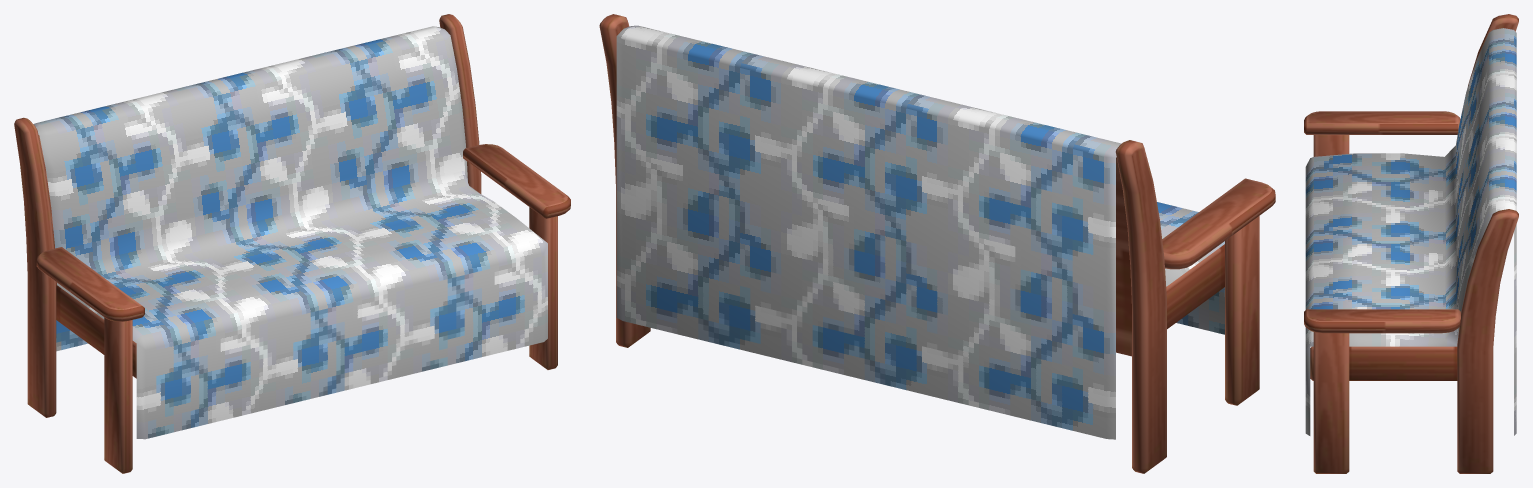
File: rmk_scd_chairL.dae
3 renders of one model, left to right at view 1: azimuth 30°, elevation 25°; view 2: azimuth 150°, elevation 25°; view 3: azimuth 270°, elevation 25°, orthographic. The views are drawn at different scales.
Visible parts, largest first — view 1: vsn_mesh_1_, vsn_mesh_0_; view 2: vsn_mesh_1_, vsn_mesh_0_; view 3: vsn_mesh_1_, vsn_mesh_0_.
Part boxes in pixels (left/top/right/bottom): vsn_mesh_1_: left=33, top=26, right=547, bottom=439; vsn_mesh_0_: left=14, top=14, right=570, bottom=473; vsn_mesh_1_: left=616, top=25, right=1224, bottom=439; vsn_mesh_0_: left=599, top=14, right=1275, bottom=473; vsn_mesh_1_: left=1305, top=28, right=1516, bottom=435; vsn_mesh_0_: left=1304, top=14, right=1518, bottom=473.
Bounding box in the file's own units: 56 × 32.04 × 23.84.
Materials: 2 (2 with a texture image).
